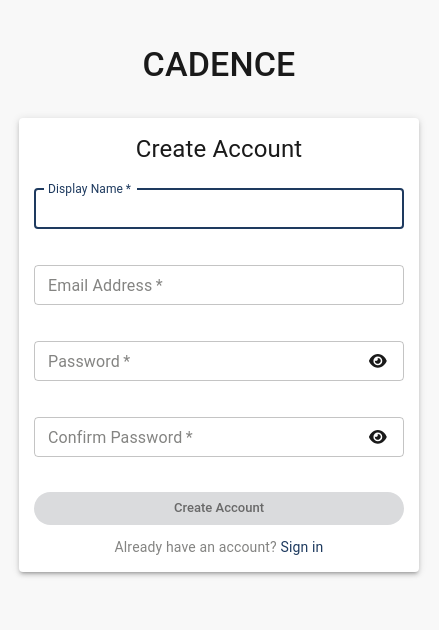
Test: RegisterPage › shows password requirements when typing password
Expected: the heading "Create Account" is shown, [136, 135, 302, 163]
// Type a password and blur to trigger requirements display
In the password field labelled "Password *": {"x": 195, "y": 361} [34, 341, 355, 381], type "test"
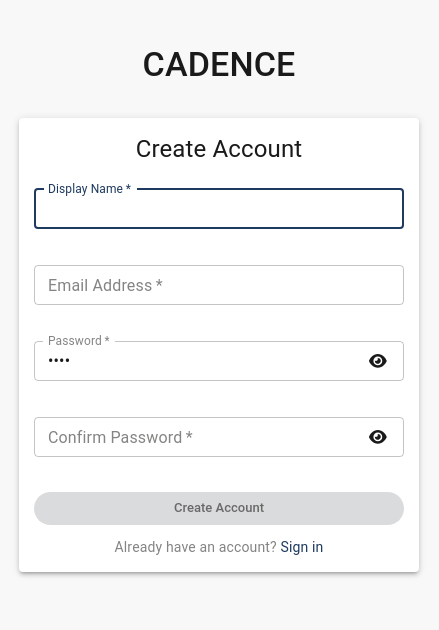
Leave the password field labelled "Password *", box [34, 341, 355, 381]
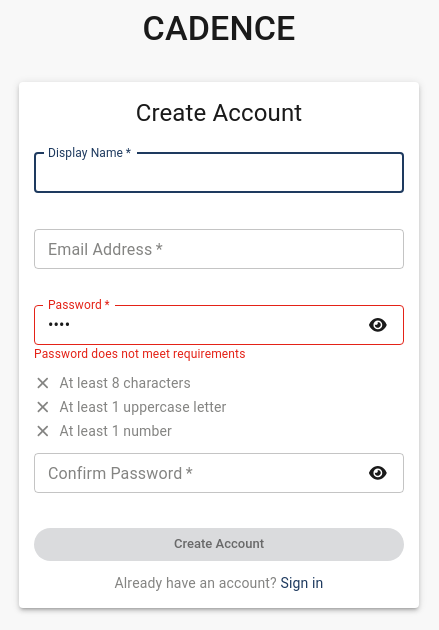
Now the text "At least 8 characters" is shown, box [60, 372, 191, 392]
Now the text "At least 1 uppercase letter" is shown, box [60, 396, 226, 416]
Now the text "At least 1 number" is shown, box [60, 420, 172, 440]
